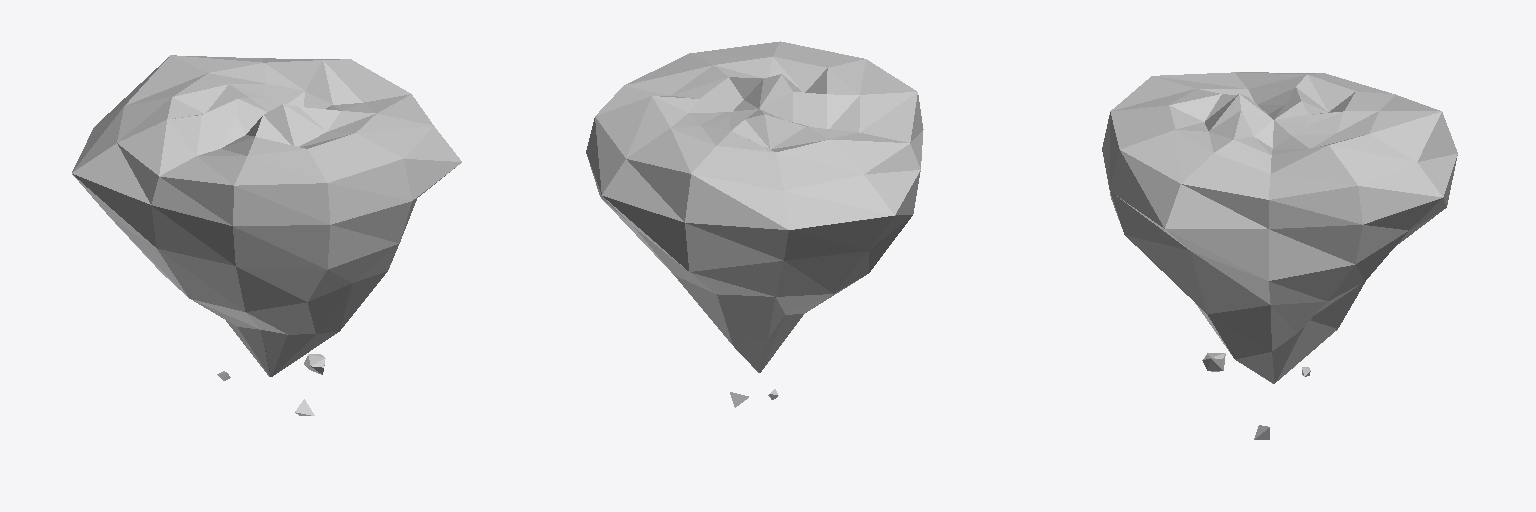
Rendered from stone.obj.
3 views of the same model, side by side, from view 1: azimuth 30°, elevation 25°; view 2: azimuth 150°, elevation 25°; view 3: azimuth 270°, elevation 25° (orthographic).
Parts seen in each view (by area): view 1: stone; view 2: stone; view 3: stone.
Boxes of the visible parts, x1,y1,x2,y2 form: stone: [72, 55, 461, 415]; stone: [586, 41, 923, 407]; stone: [1102, 72, 1457, 439].
Size of the model in its own units: 0.3302 by 0.3352 by 0.3269.